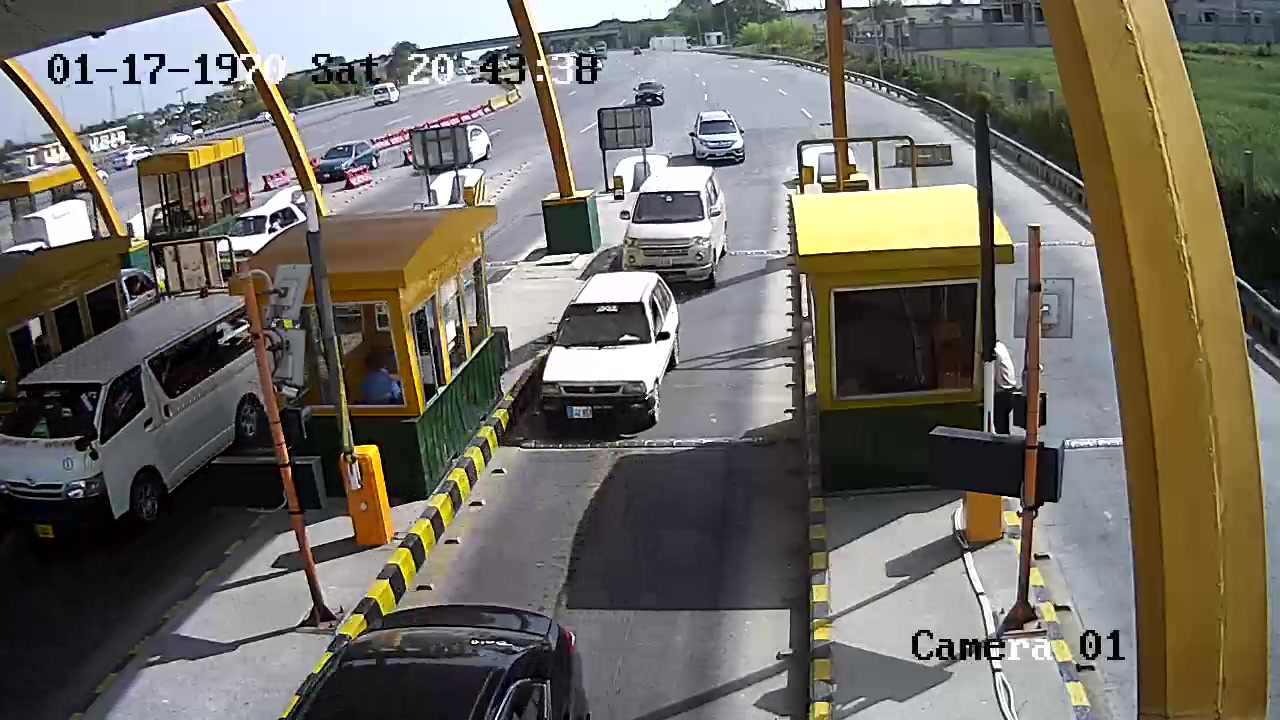F1: (513, 267, 697, 433)
